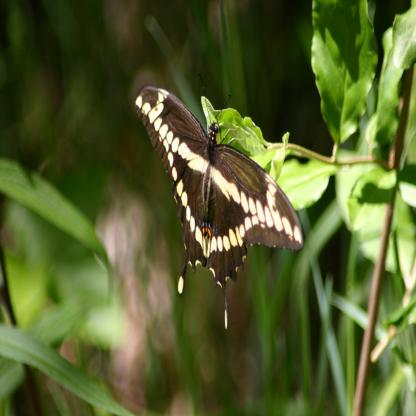Giant Swallowtail: (104, 63, 328, 347)
